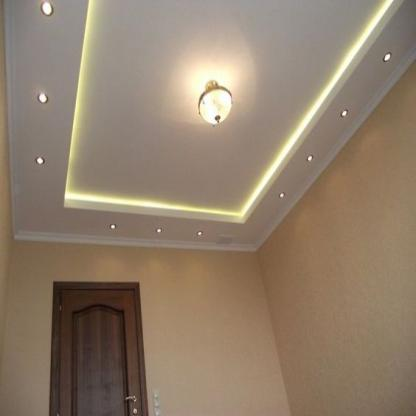Gypsum Board: (0, 1, 416, 256)
